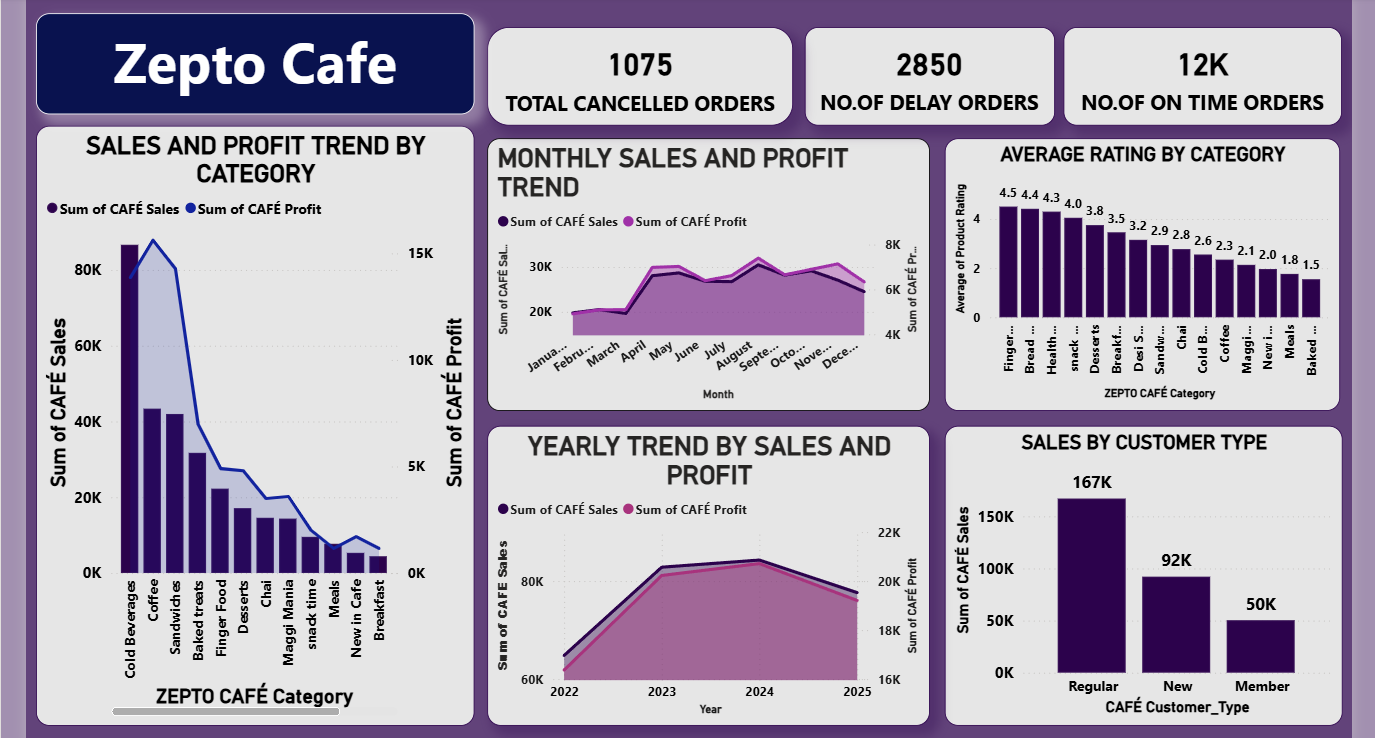

The dashboard page shown, as its layout file describes it:
{"tool":"powerbi","page":{"name":"Duplicate of Duplicate of Page 1","canvas":[1280,720],"ordinal":2},"visuals":[{"type":"areaChart","title":"MONTHLY SALES AND PROFIT TREND","fields":{"Y":["Sum(Sheet1 (2).CAFÉ Sales)"],"Y2":["Sum(Sheet1 (2).CAFÉ Profit)"],"Category":["Sheet1 (2).Order Date.Variation.Date Hierarchy.Month"]},"box":[444.8,136.1,427.3,263.4],"z":0},{"type":"columnChart","title":"SALES BY CUSTOMER TYPE","fields":{"Y":["Sum(Sheet1 (2).CAFÉ Sales)"],"Category":["Sheet1 (2). CAFÉ Customer_Type"]},"box":[886.7,413.8,383.6,289.5],"z":1000},{"type":"card","title":"SALES BY STATES","fields":{"Values":["Sheet1.NO.OF DELAY ORDERS"]},"box":[751.6,29,241.3,95.3],"z":2000},{"type":"card","title":"SALES BY STATES","fields":{"Values":["Sheet1.NO.OF ON TIME ORDERS"]},"box":[1001.3,29,269,95.3],"z":3000},{"type":"lineStackedColumnComboChart","title":"SALES AND PROFIT TREND BY CATEGORY","fields":{"Category":["Sheet1 (2).ZEPTO CAFÉ Category"],"Y":["Sum(Sheet1 (2).CAFÉ Sales)"],"Y2":["Sum(Sheet1 (2).CAFÉ Profit)"]},"box":[10.2,124.4,422.9,579.4],"z":4000},{"type":"card","title":"SALES BY STATES","fields":{"Values":["Sheet1.TOTAL CANCELLED ORDERS"]},"box":[445.2,29,295.6,95.3],"z":5000},{"type":"lineChart","title":"YEARLY TREND BY SALES AND PROFIT","fields":{"Y2":["Sum(Sheet1 (2).CAFÉ Profit)"],"Y":["Sum(Sheet1 (2).CAFÉ Sales)"],"Category":["Sheet1 (2).Order Date.Variation.Date Hierarchy.Year"]},"box":[444.8,414.1,427.3,289.7],"z":6000},{"type":"textbox","box":[9.7,15.7,423.5,97.7],"z":7000},{"type":"columnChart","title":"AVERAGE RATING BY CATEGORY","fields":{"Y":["Avg(Sheet1 (2).Product Rating)"],"Category":["Sheet1 (2).ZEPTO CAFÉ Category"]},"box":[886.7,136.3,381.2,263],"z":8000}]}

Visuals, with their boxes in screenshot pixels (x1, y1, x2, y2):
"MONTHLY SALES AND PROFIT TREND" areaChart: {"x1": 480, "y1": 132, "x2": 928, "y2": 408}
"SALES BY CUSTOMER TYPE" columnChart: {"x1": 943, "y1": 423, "x2": 1345, "y2": 726}
"SALES BY STATES" card: {"x1": 802, "y1": 20, "x2": 1054, "y2": 119}
"SALES BY STATES" card: {"x1": 1063, "y1": 20, "x2": 1345, "y2": 119}
"SALES AND PROFIT TREND BY CATEGORY" lineStackedColumnComboChart: {"x1": 25, "y1": 120, "x2": 468, "y2": 726}
"SALES BY STATES" card: {"x1": 481, "y1": 20, "x2": 790, "y2": 119}
"YEARLY TREND BY SALES AND PROFIT" lineChart: {"x1": 480, "y1": 423, "x2": 928, "y2": 726}
textbox: {"x1": 24, "y1": 6, "x2": 468, "y2": 108}
"AVERAGE RATING BY CATEGORY" columnChart: {"x1": 943, "y1": 132, "x2": 1342, "y2": 408}
